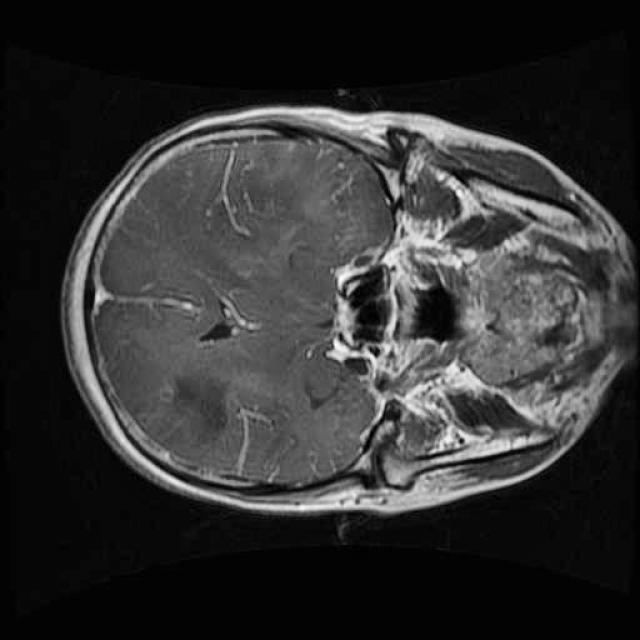Non-Tumor: (158, 364, 238, 446)
